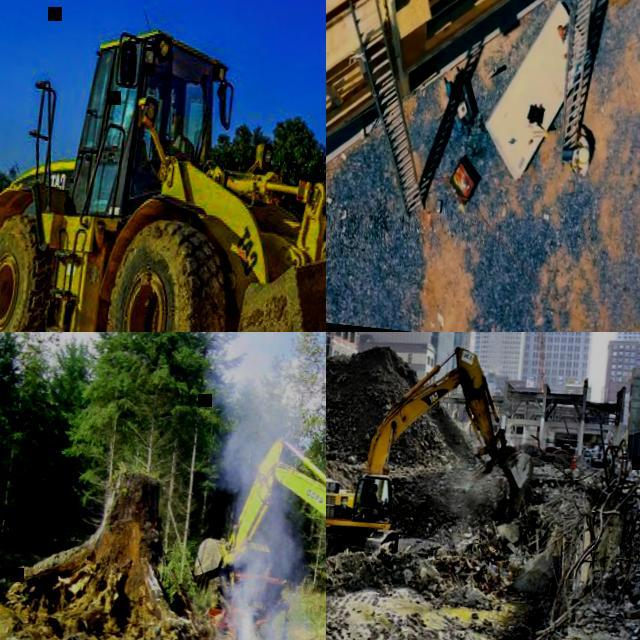helmet: (576, 146, 589, 163)
